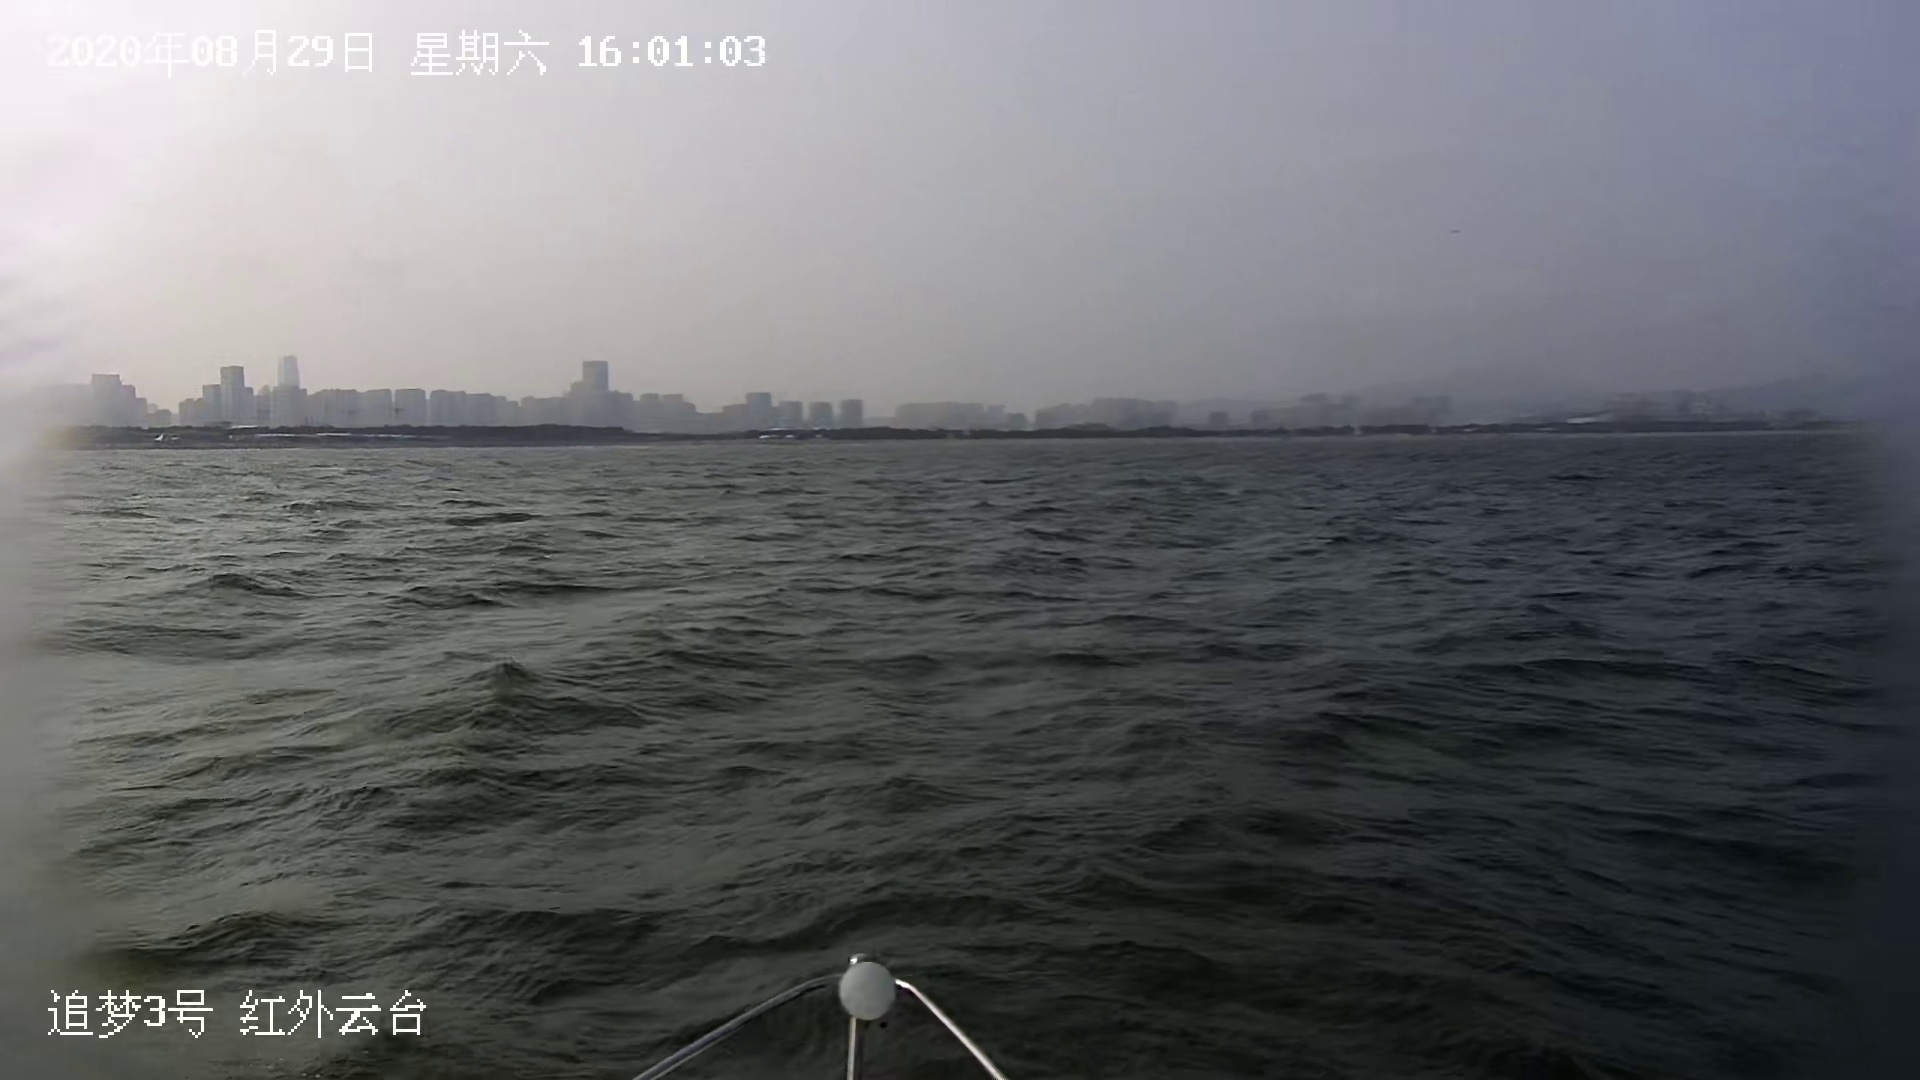coast: (7, 335, 1920, 452)
